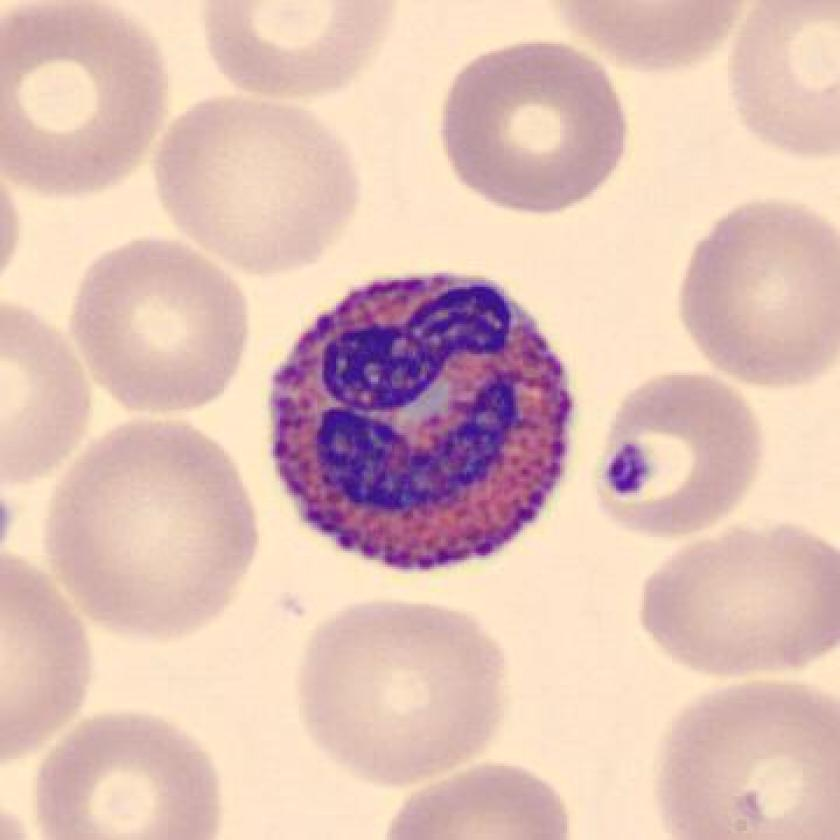eosinophil: (262, 251, 587, 589)
